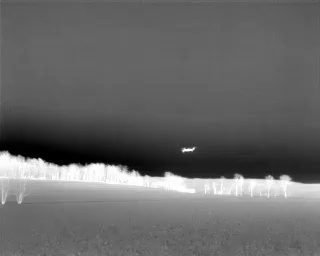DRONE: (178, 142, 199, 157)
